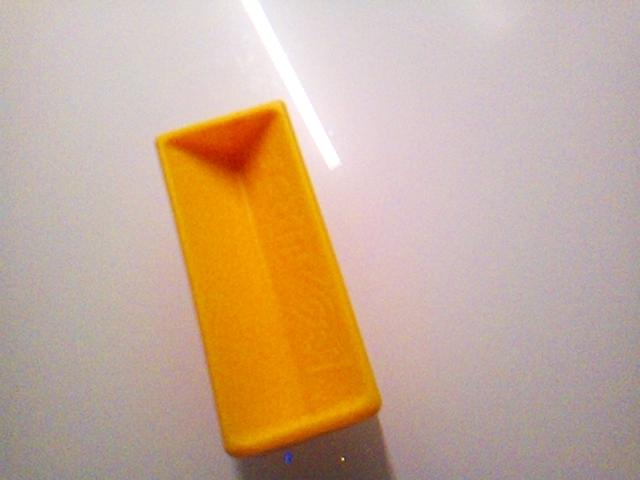yellow: (154, 98, 384, 458)
